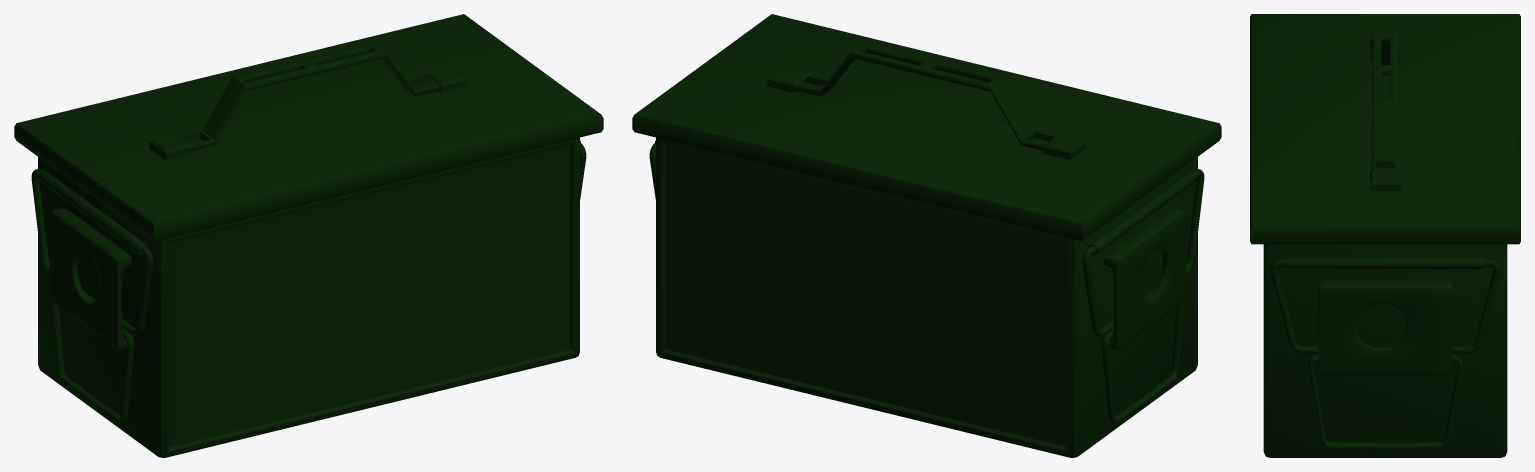
The model's file is ammobox.fbx.
The picture shows the model from 3 angles, left to right: view 1: azimuth 30°, elevation 25°; view 2: azimuth 150°, elevation 25°; view 3: azimuth 270°, elevation 25°; orthographic projection. The views are drawn at different scales.
Visible parts, largest first — view 1: Cube.045, Cube.047, Cylinder.022; view 2: Cube.045, Cube.047, Cylinder.022; view 3: Cube.047, Cube.045, Cylinder.022.
Boxes of the visible parts, left/top/right/bottom form: Cube.045: left=38, top=137, right=579, bottom=457; Cube.047: left=14, top=14, right=603, bottom=241; Cylinder.022: left=31, top=140, right=586, bottom=424; Cube.045: left=656, top=137, right=1197, bottom=457; Cube.047: left=632, top=14, right=1221, bottom=241; Cylinder.022: left=649, top=140, right=1204, bottom=424; Cube.047: left=1250, top=14, right=1520, bottom=244; Cube.045: left=1263, top=244, right=1507, bottom=457; Cylinder.022: left=1270, top=257, right=1500, bottom=450.
Size of the model in its own units: 78.67 by 49.92 by 41.83.
Materials: 1 (1 with a texture image).
